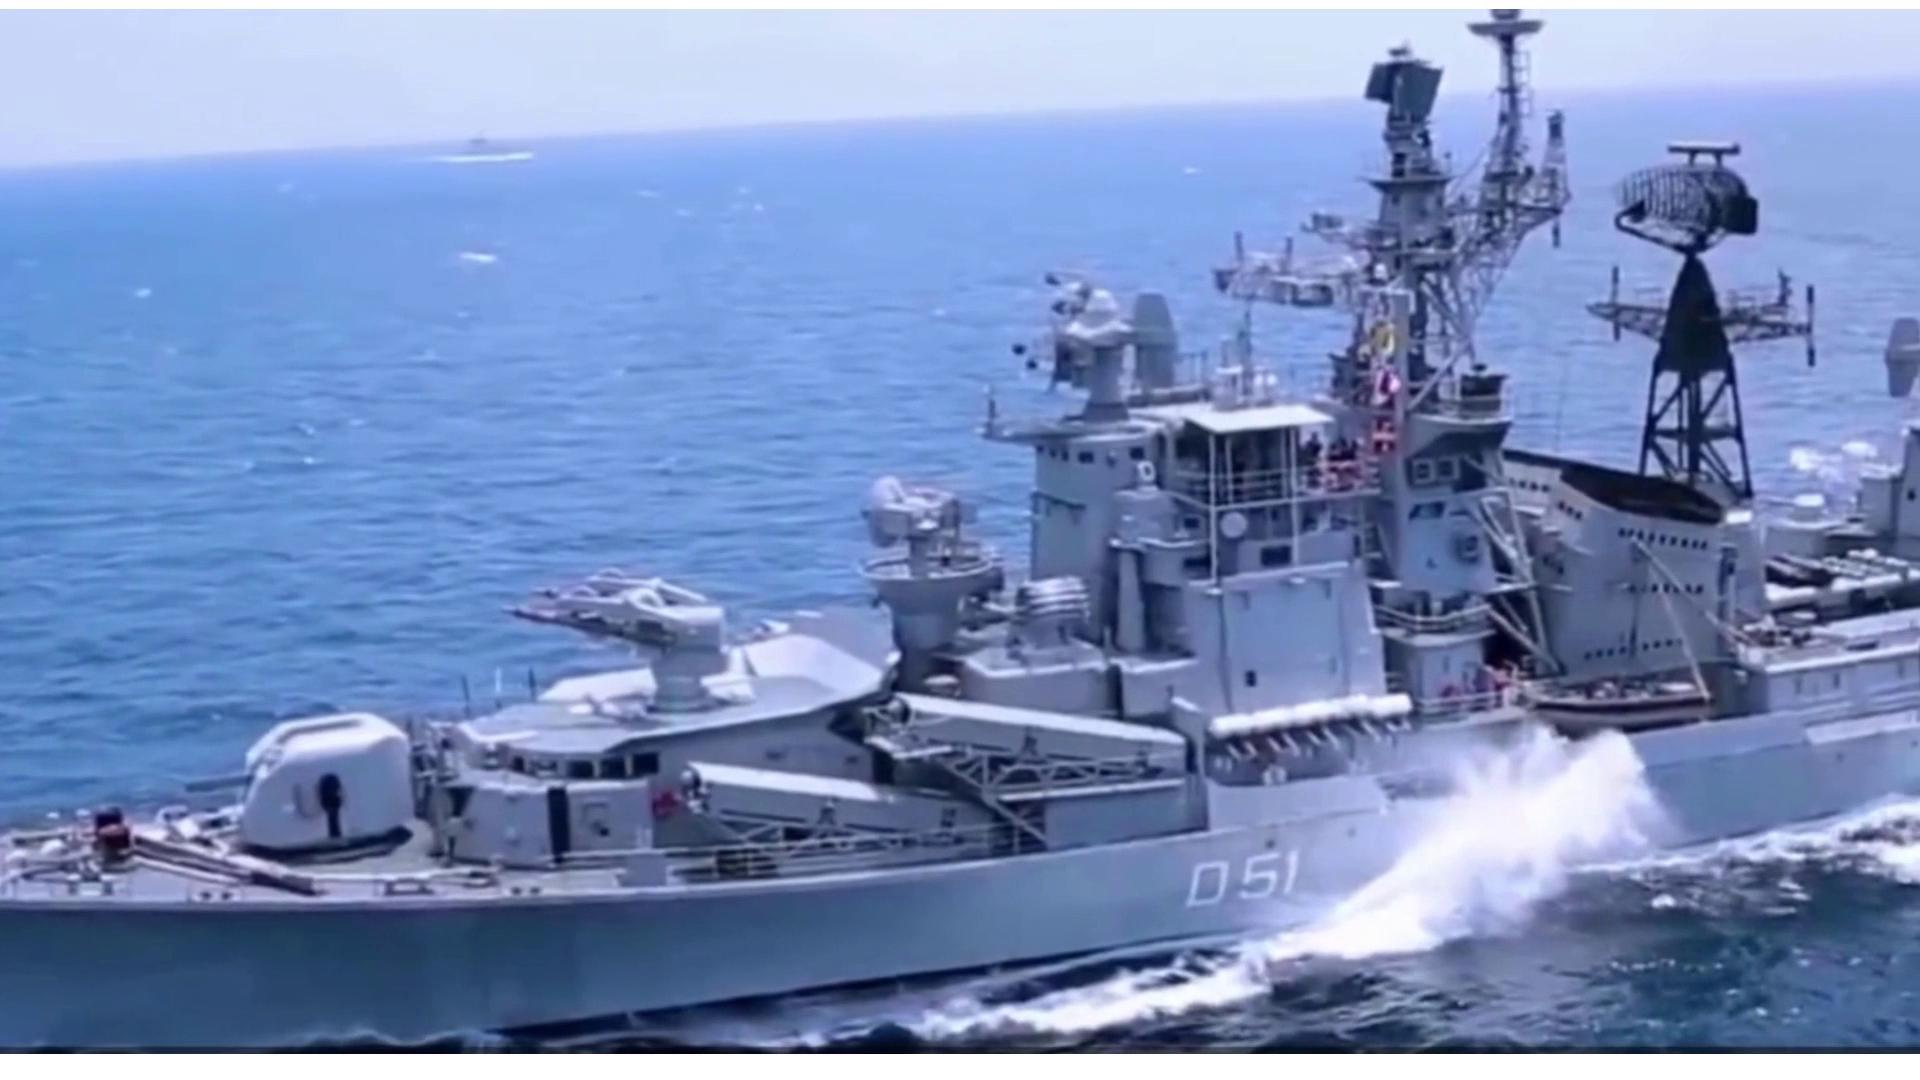OCR: (1166, 840, 1305, 926)
